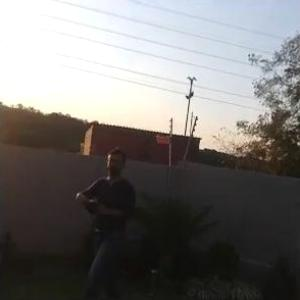follow: (70, 144, 142, 299)
